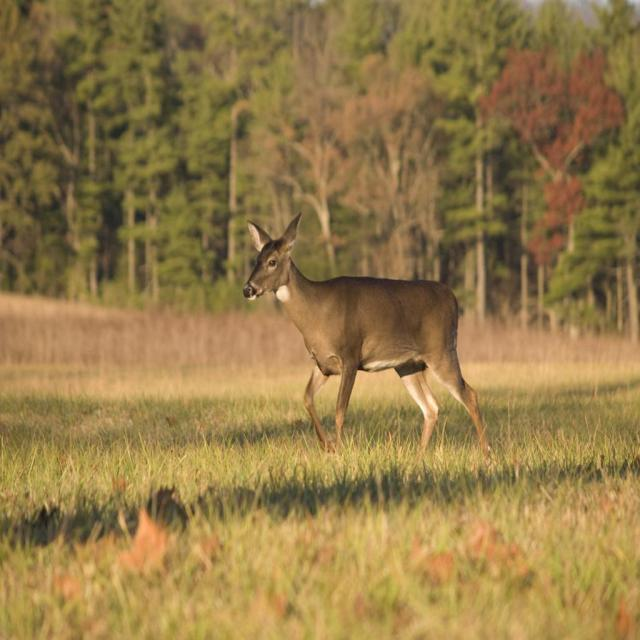Deer: (243, 214, 489, 460)
